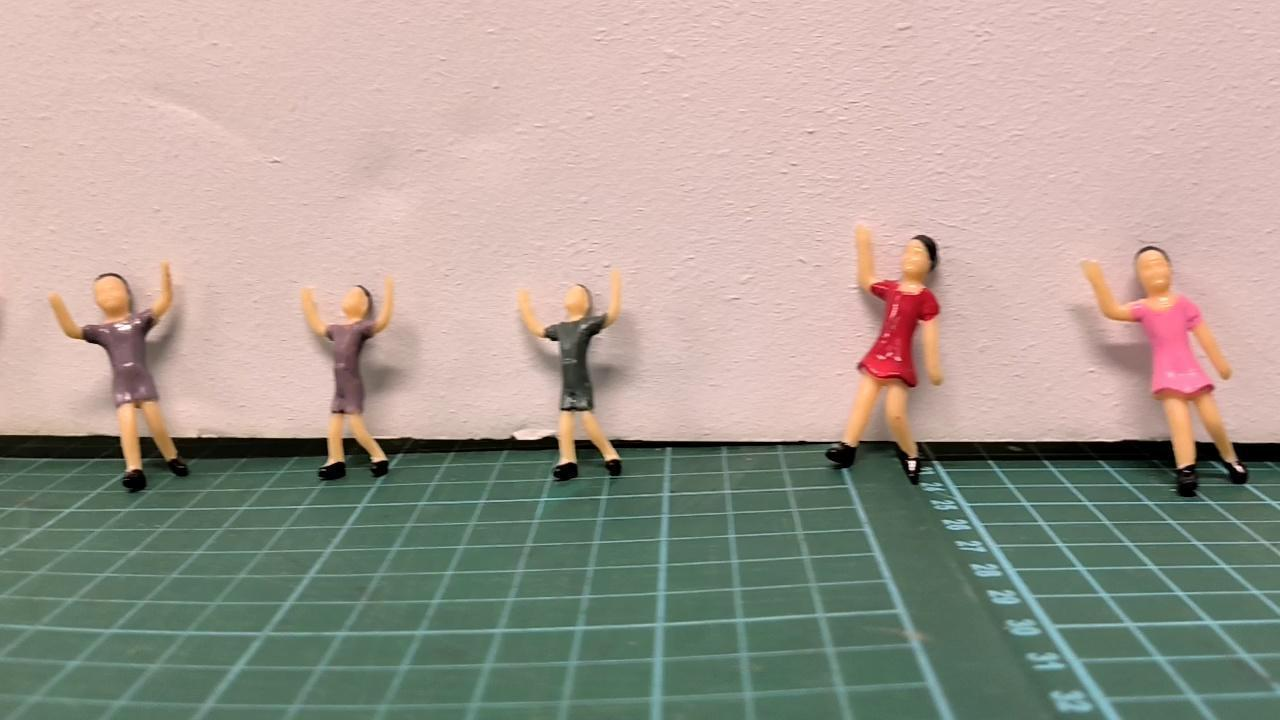human: (1079, 244, 1250, 500), (45, 262, 195, 492), (831, 218, 946, 484), (513, 264, 633, 486), (299, 274, 401, 484)
